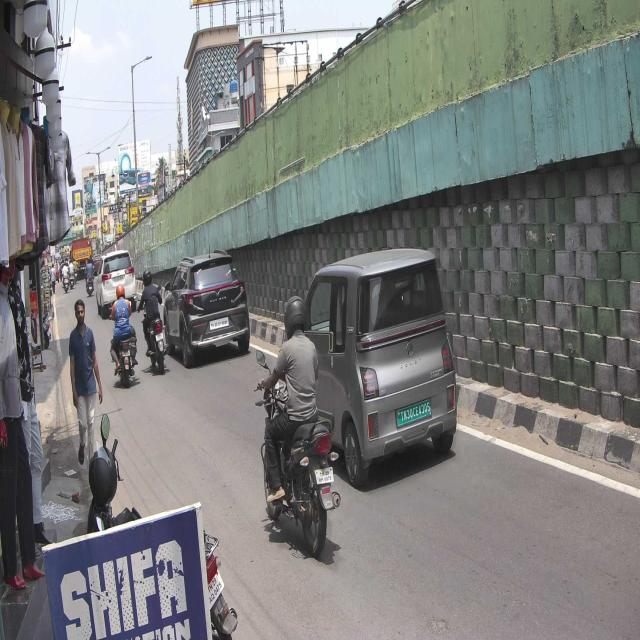single_rider: (254, 293, 341, 559)
